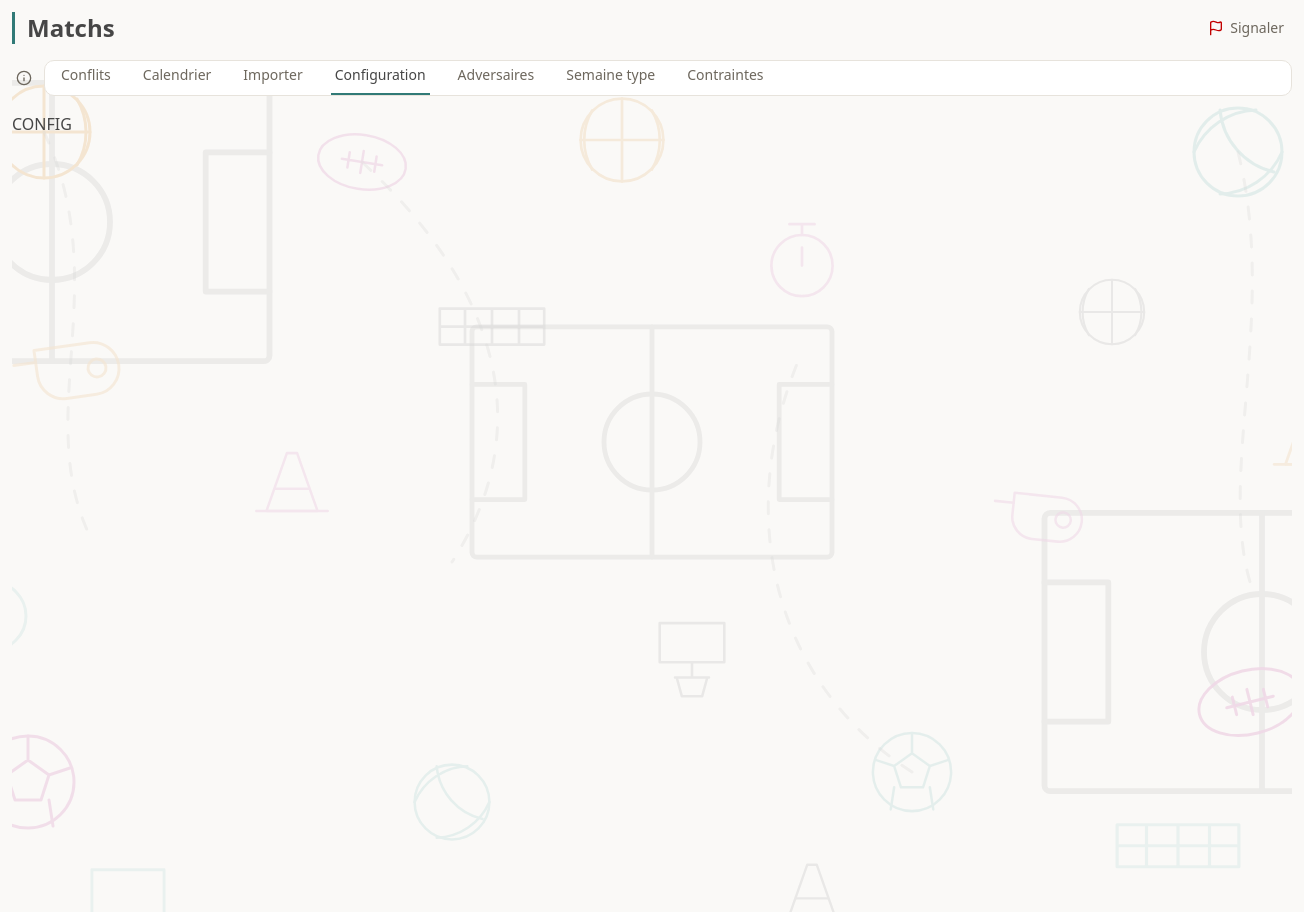
Test: MatchesLayout (RMM-1 PR2 — deux espaces) › porte l'onglet Calendrier (index /matchs) et rend l'écran unique (PR 3b)
What coordinates should you click on to do the following:
click the link "Calendrier"
I would click on:
 (177, 74)
Its box is [143,65,211,84].
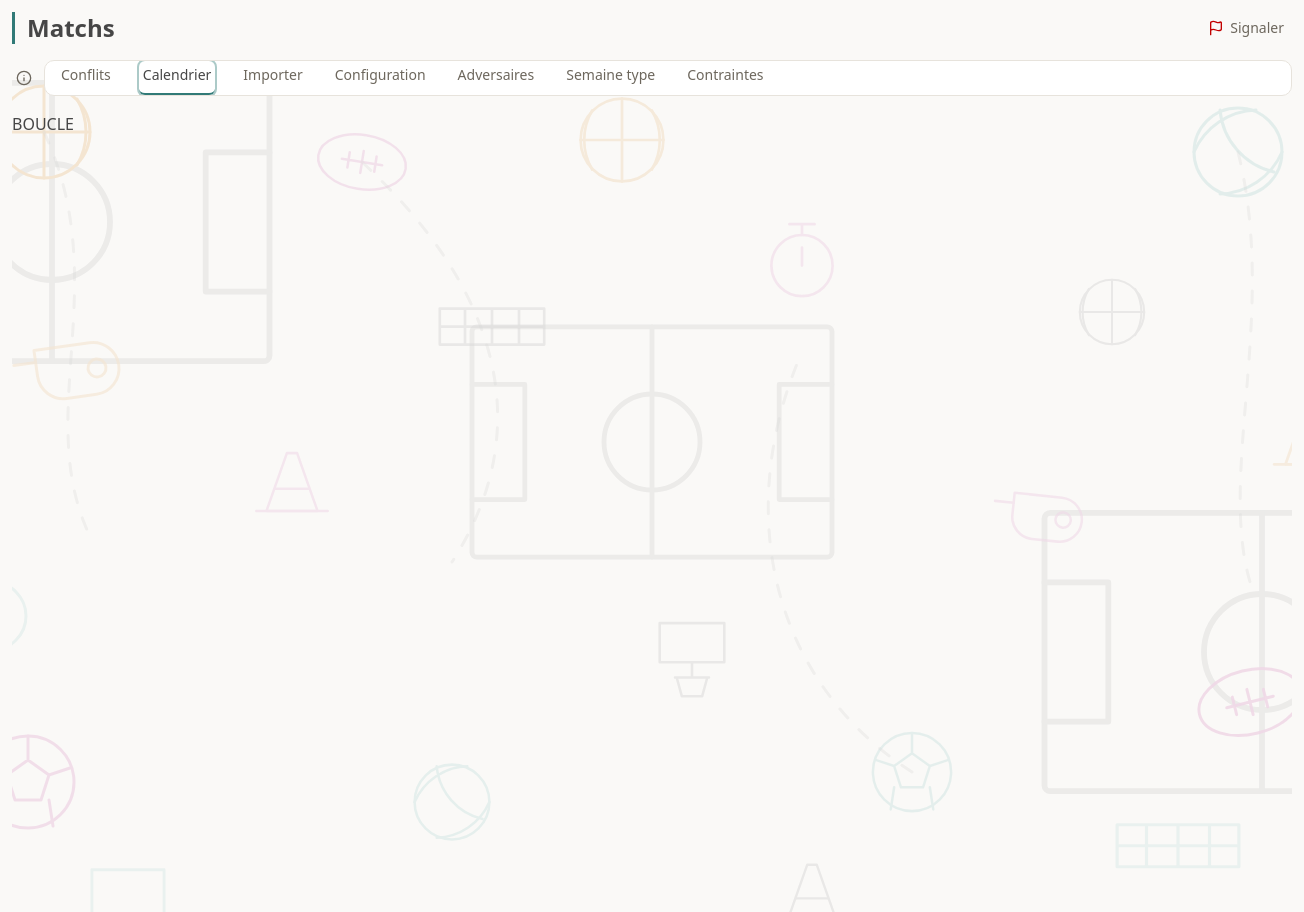
expect the text "BOUCLE" is shown: met, box [12,113,74,135]
